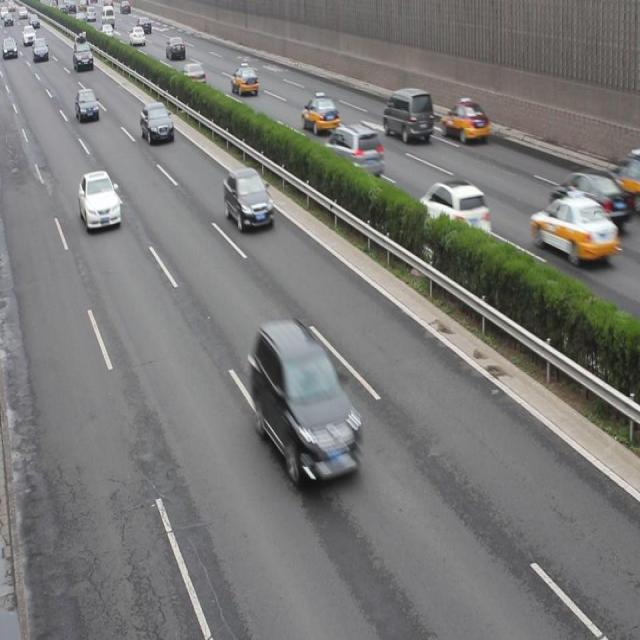car: (253, 318, 362, 486), (529, 195, 618, 262), (416, 178, 488, 248), (550, 169, 629, 228), (224, 165, 275, 232), (324, 123, 383, 178), (79, 171, 122, 231), (440, 98, 489, 144), (300, 95, 339, 136), (140, 100, 175, 144), (76, 86, 100, 124), (230, 65, 259, 96)
truck: (381, 86, 432, 143)
